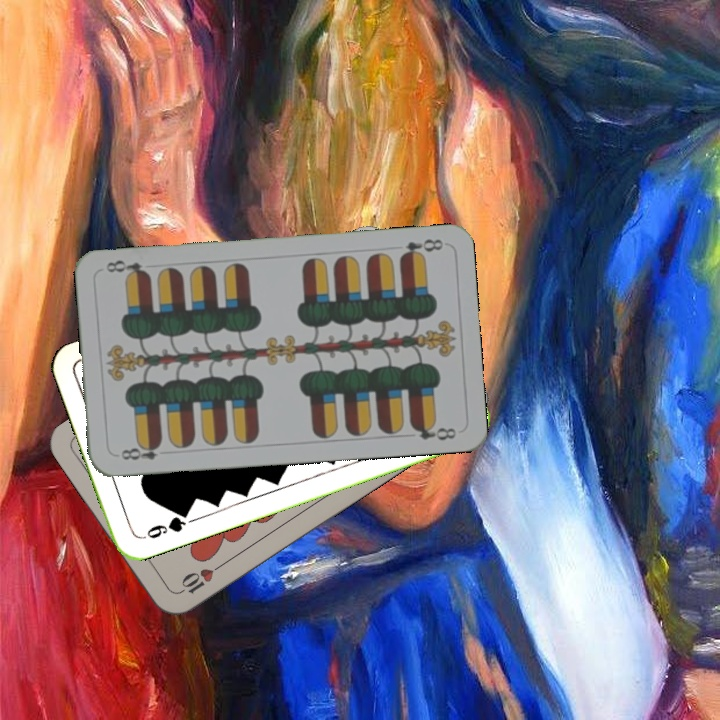E8: (396, 234, 445, 261), (117, 438, 164, 463)
G9: (137, 508, 191, 543)
H10: (173, 559, 226, 597)
